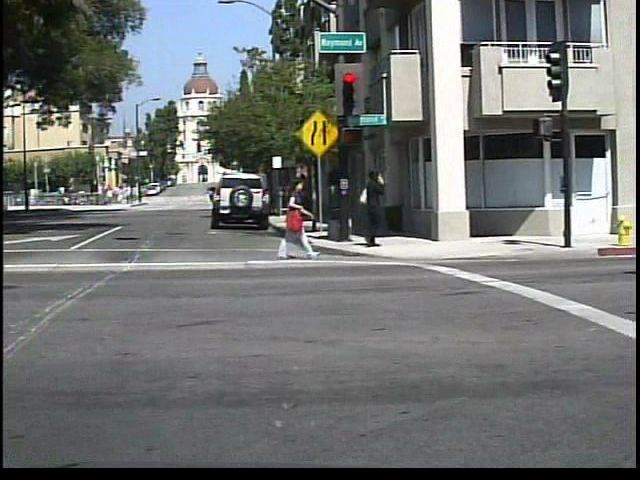person: (276, 174, 319, 262), (357, 163, 398, 249)
